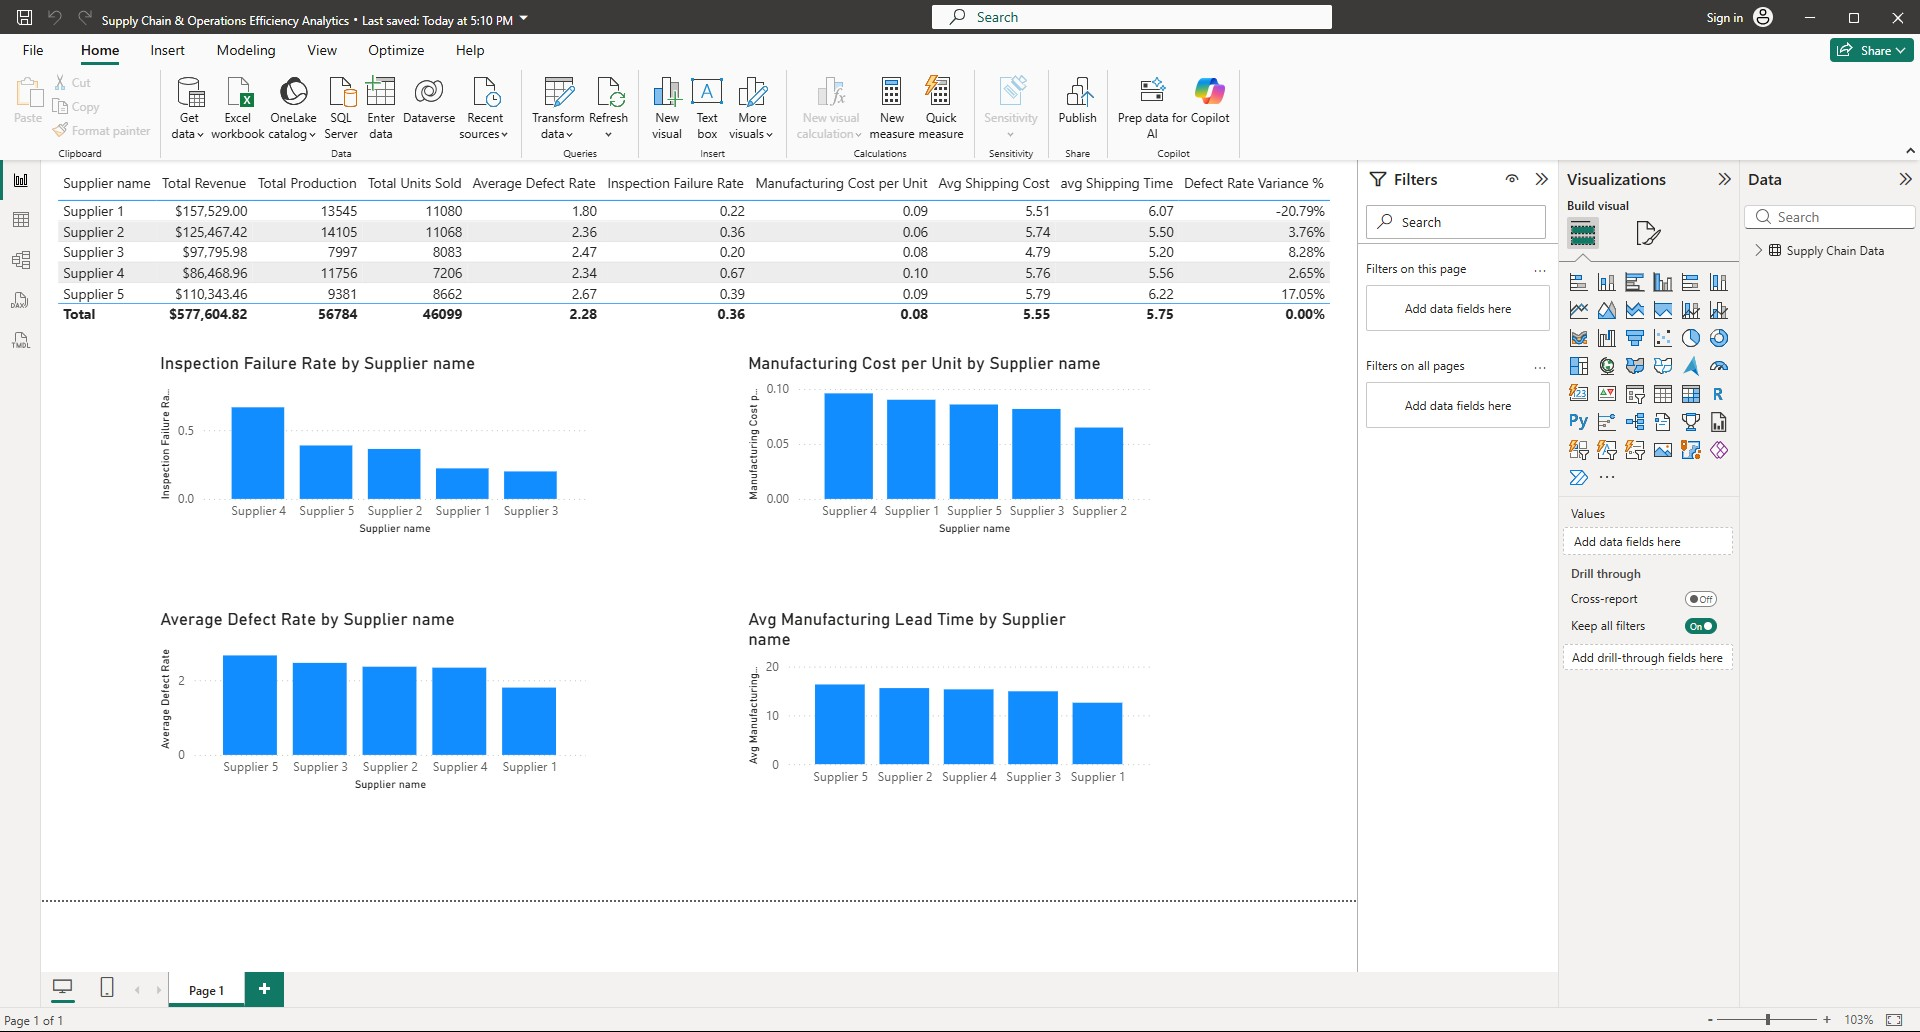

This screenshot's page, from the dashboard's own definition file:
{"tool":"powerbi","page":{"name":"Page 1","canvas":[1280,720],"ordinal":0},"visuals":[{"type":"tableEx","fields":{"Values":["Supply Chain Data.Supplier name","Supply Chain Data.Total Revenue","Supply Chain Data.Total Production","Supply Chain Data.Total Units Sold","Supply Chain Data.Average Defect Rate","Supply Chain Data.Inspection Failure Rate","Supply Chain Data.Manufacturing Cost per Unit","Supply Chain Data.Avg Shipping Cost","Supply Chain Data.avg Shipping Time","Supply Chain Data.Defect Rate Variance %"]},"box":[10.7,6.8,1257.6,180.9],"z":5},{"type":"clusteredColumnChart","fields":{"Category":["Supply Chain Data.Supplier name"],"Y":["Supply Chain Data.Inspection Failure Rate"]},"box":[110.9,187.7,424.1,180.9],"z":6},{"type":"clusteredColumnChart","fields":{"Category":["Supply Chain Data.Supplier name"],"Y":["Supply Chain Data.Manufacturing Cost per Unit"]},"box":[682.8,187.7,400.7,180.9],"z":7},{"type":"clusteredColumnChart","fields":{"Category":["Supply Chain Data.Supplier name"],"Y":["Supply Chain Data.Average Defect Rate"]},"box":[110.9,436.7,424.1,180.9],"z":8},{"type":"clusteredColumnChart","fields":{"Category":["Supply Chain Data.Supplier name"],"Y":["Supply Chain Data.Avg Manufacturing Lead Time"]},"box":[682.8,436.7,400.7,180.9],"z":9}]}

Visuals, with their boxes on the page's 1280x720 design canvas (x1, y1, x2, y2). These are canvas units, not pixel positions in the 1920x1032 screenshot, which may show the page scaled, cropped or inside an application window:
tableEx - Supply Chain Data.Supplier name x Supply Chain Data.Total Revenue: 11 7 1268 188
clusteredColumnChart - Supply Chain Data.Supplier name x Supply Chain Data.Inspection Failure Rate: 111 188 535 369
clusteredColumnChart - Supply Chain Data.Supplier name x Supply Chain Data.Manufacturing Cost per Unit: 683 188 1084 369
clusteredColumnChart - Supply Chain Data.Supplier name x Supply Chain Data.Average Defect Rate: 111 437 535 618
clusteredColumnChart - Supply Chain Data.Supplier name x Supply Chain Data.Avg Manufacturing Lead Time: 683 437 1084 618
